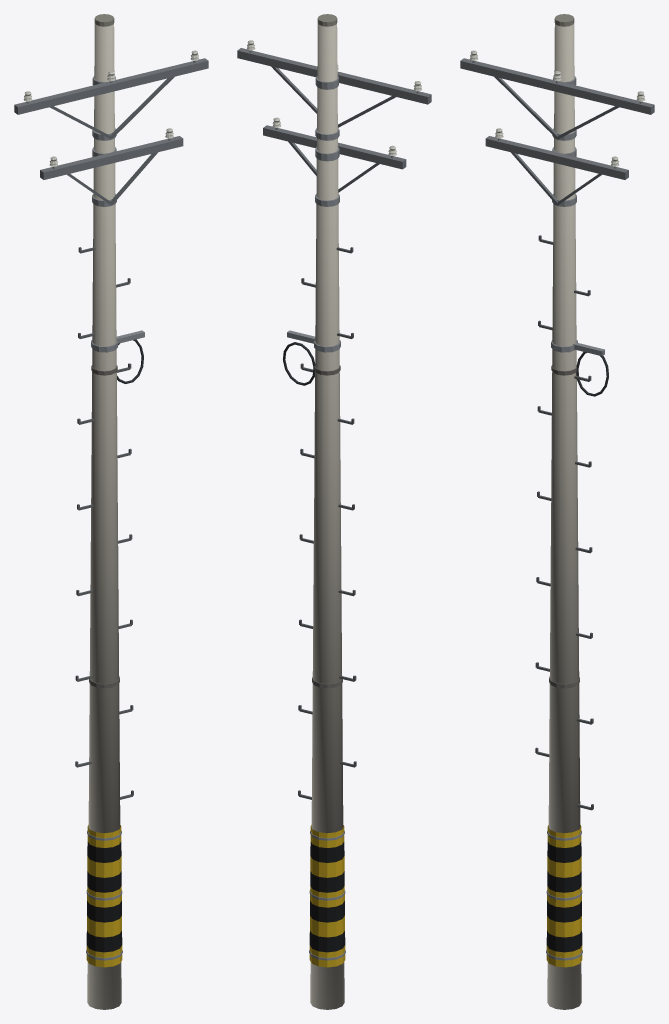
File: pole.glb
3 renders of one model, left to right at view 1: azimuth 30°, elevation 25°; view 2: azimuth 150°, elevation 25°; view 3: azimuth 330°, elevation 25°, orthographic.
Visible parts, largest first — view 1: pole; view 2: pole; view 3: pole.
Part boxes in pixels (x1=…): pole: x1=14, y1=14, x2=208, y2=1009; pole: x1=237, y1=14, x2=431, y2=1009; pole: x1=460, y1=14, x2=654, y2=1009.
Size of the model in its own units: 2.24 by 11.05 by 0.3813.
